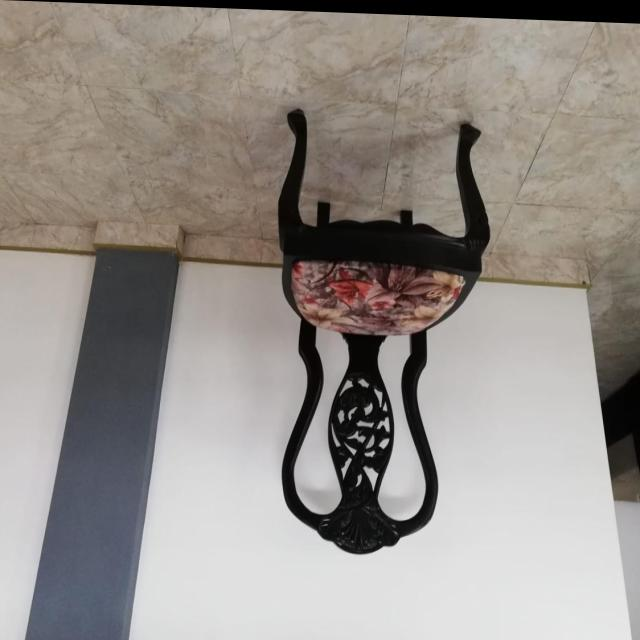Chair: (280, 98, 490, 555)
